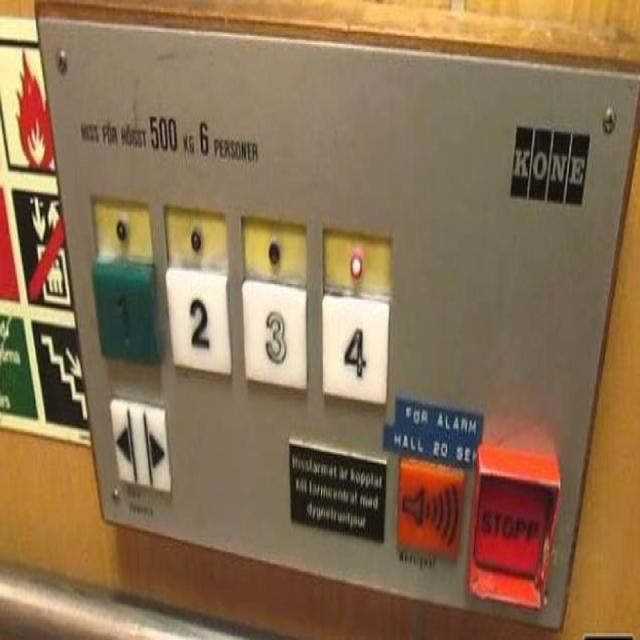1: (88, 251, 162, 373)
2: (161, 260, 234, 383)
3: (237, 268, 310, 391)
4: (318, 284, 392, 407)
open: (105, 384, 175, 503)
text_stop: (471, 469, 559, 584)
unknown: (394, 451, 464, 569)
